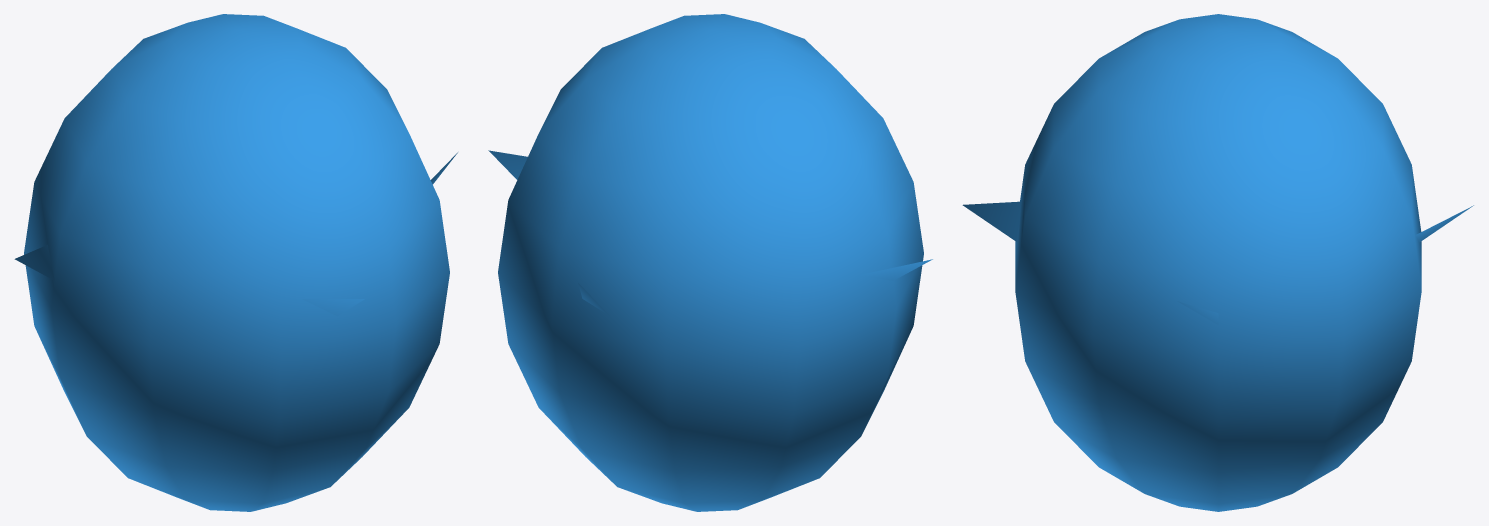
The model's file is Caranguepérola_stage1.obj.
3 views of the same model, side by side, from view 1: azimuth 30°, elevation 25°; view 2: azimuth 150°, elevation 25°; view 3: azimuth 270°, elevation 25° (orthographic).
Bounding box in the file's own units: 1.92 × 1.92 × 1.92.
